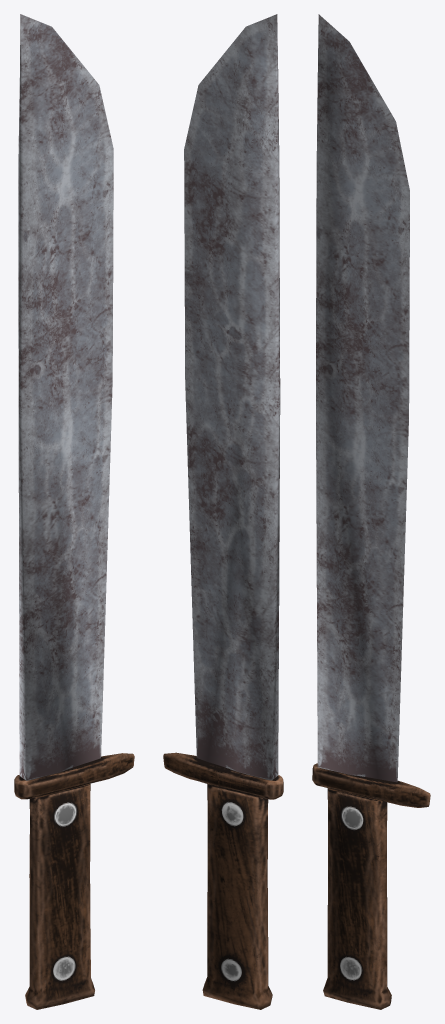
The model's file is Machete.fbx.
3 views of the same model, side by side, from view 1: azimuth 30°, elevation 25°; view 2: azimuth 150°, elevation 25°; view 3: azimuth 330°, elevation 25° (orthographic).
Visible parts, largest first — view 1: Machete; view 2: Machete; view 3: Machete.
Boxes of the visible parts, x1,y1,x2,y2 form: Machete: [14, 14, 134, 1009]; Machete: [163, 14, 283, 1009]; Machete: [312, 14, 430, 1009].
Bounding box in the file's own units: 12.32 × 98.34 × 2.58.
